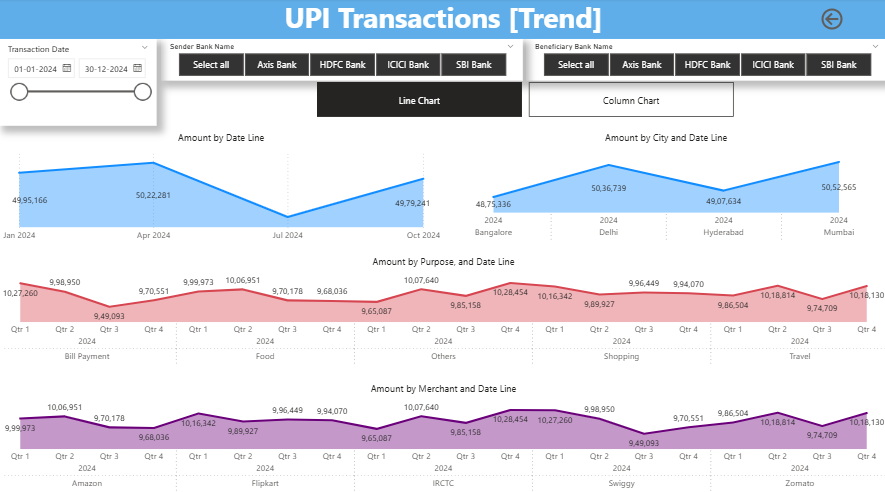

Layout of this report page (visuals, bound fields, positions):
{"tool":"powerbi","page":{"name":"Trend","canvas":[1280,720],"ordinal":3},"visuals":[{"type":"areaChart","title":"Amount by Merchant and Date Line","fields":{"Category":["UPI_TRANSACTIONS.MerchantName","UPI_TRANSACTIONS.TransactionDate.Variation.Date Hierarchy.Year","UPI_TRANSACTIONS.TransactionDate.Variation.Date Hierarchy.Quarter","UPI_TRANSACTIONS.TransactionDate.Variation.Date Hierarchy.Month"],"Y":["Sum(UPI_TRANSACTIONS.Amount)"]},"box":[0,552.7,1280.3,167.5],"z":5500},{"type":"areaChart","title":"Amount by Purpose, and Date Line","fields":{"Category":["UPI_TRANSACTIONS.Purpose","UPI_TRANSACTIONS.TransactionDate.Variation.Date Hierarchy.Year","UPI_TRANSACTIONS.TransactionDate.Variation.Date Hierarchy.Quarter","UPI_TRANSACTIONS.TransactionDate.Variation.Date Hierarchy.Month"],"Y":["Sum(UPI_TRANSACTIONS.Amount)"]},"box":[0,369.5,1280.3,167.5],"z":7000},{"type":"stackedAreaChart","title":"Amount by City and Date Line","fields":{"Category":["UPI_TRANSACTIONS.City","UPI_TRANSACTIONS.TransactionDate.Variation.Date Hierarchy.Year","UPI_TRANSACTIONS.TransactionDate.Variation.Date Hierarchy.Quarter","UPI_TRANSACTIONS.TransactionDate.Variation.Date Hierarchy.Month"],"Y":["Sum(UPI_TRANSACTIONS.Amount)"]},"box":[640.8,192,640,167.5],"z":8500},{"type":"stackedAreaChart","title":"Amount by Date Line","fields":{"Category":["UPI_TRANSACTIONS.TransactionDate.Variation.Date Hierarchy.Year","UPI_TRANSACTIONS.TransactionDate.Variation.Date Hierarchy.Quarter","UPI_TRANSACTIONS.TransactionDate.Variation.Date Hierarchy.Month"],"Y":["Sum(UPI_TRANSACTIONS.Amount)"]},"box":[0,192,640,167.5],"z":10500},{"type":"bookmarkNavigator","box":[458.4,121.5,600.1,50.6],"z":12000},{"type":"slicer","fields":{"Values":["UPI_TRANSACTIONS.BankNameReceived"]},"box":[759.4,58.7,520.9,59.9],"z":12062},{"type":"slicer","fields":{"Values":["UPI_TRANSACTIONS.BankNameSent"]},"box":[233.6,58.7,520.9,59.9],"z":12125},{"type":"slicer","fields":{"Values":["UPI_TRANSACTIONS.TransactionDate"]},"box":[0,58.7,227.4,124.7],"z":12250},{"type":"textbox","title":"UPI Transactions [Trend]","box":[0,0,1280.3,58.7],"z":12500},{"type":"actionButton","box":[1180,9.8,100.3,40.4],"z":13000}]}

Visuals, with their boxes in screenshot pixels (x1, y1, x2, y2), scaled from the page's 1280x720 canvas onto the 885x492 screenshot:
"Amount by Merchant and Date Line" areaChart: box=[0, 378, 884, 491]
"Amount by Purpose, and Date Line" areaChart: box=[0, 252, 884, 367]
"Amount by City and Date Line" stackedAreaChart: box=[443, 131, 884, 246]
"Amount by Date Line" stackedAreaChart: box=[0, 131, 442, 246]
bookmarkNavigator: box=[317, 83, 732, 118]
slicer - UPI_TRANSACTIONS.BankNameReceived: box=[525, 40, 884, 81]
slicer - UPI_TRANSACTIONS.BankNameSent: box=[162, 40, 522, 81]
slicer - UPI_TRANSACTIONS.TransactionDate: box=[0, 40, 157, 125]
"UPI Transactions [Trend]" textbox: box=[0, 0, 884, 40]
actionButton: box=[816, 7, 884, 34]
